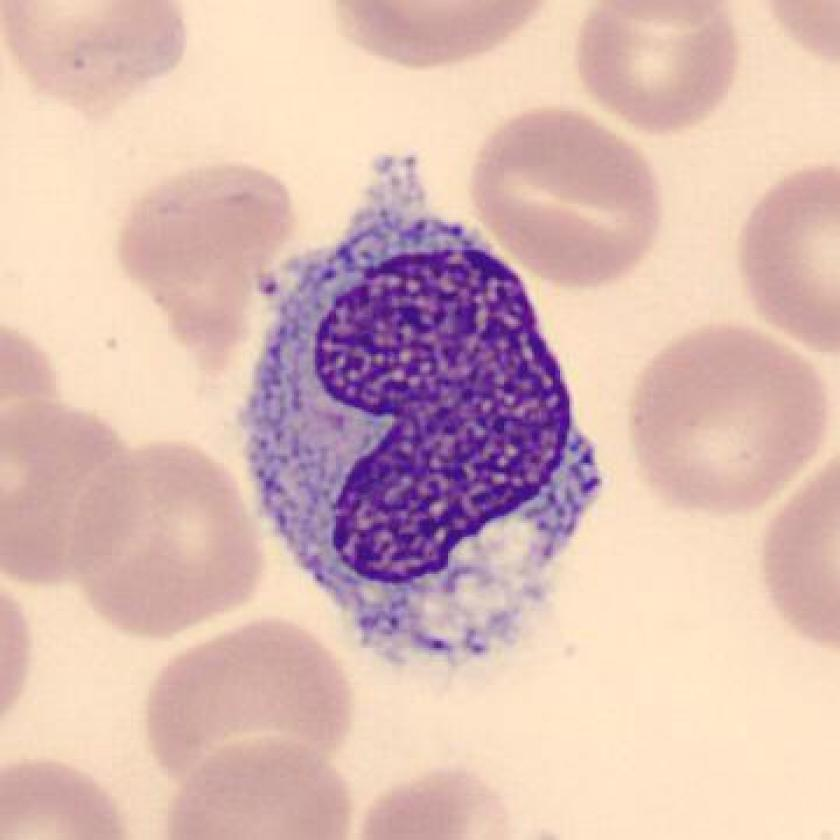monocyte: (220, 137, 617, 686)
